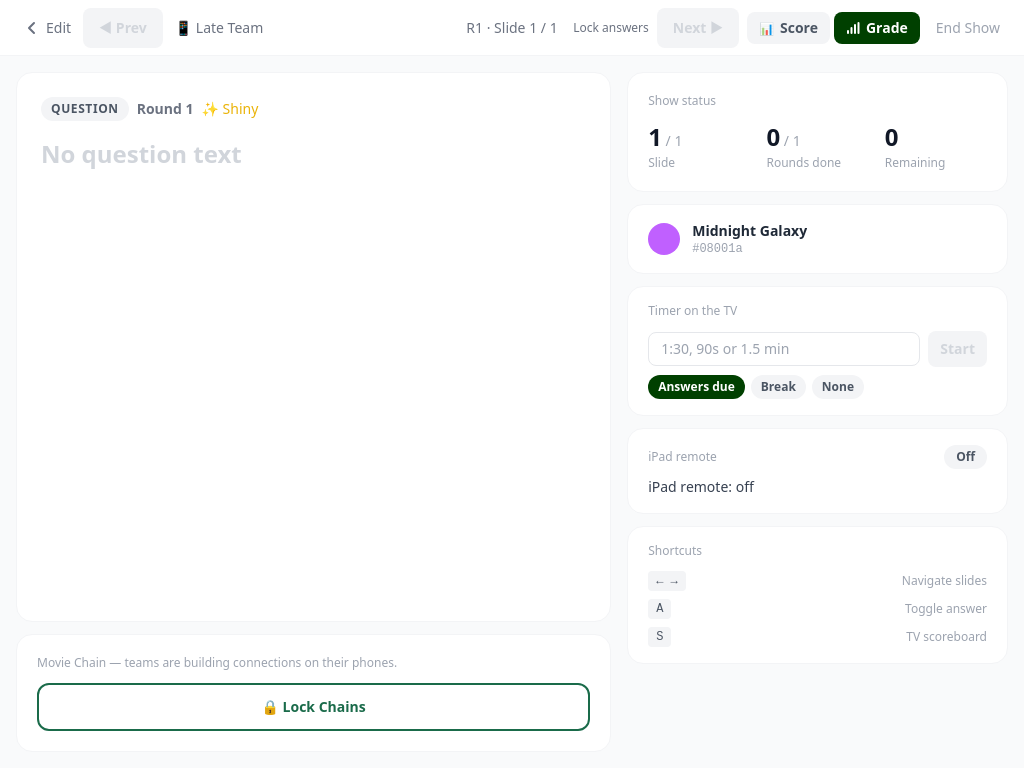
Test: Movie Chain host flows › an incomplete setup blocks the lock with a useful message
The image size is (1024, 768).
Click the button "🔒 Lock Chains" at (314, 707), box left=37, top=683, right=590, bottom=731
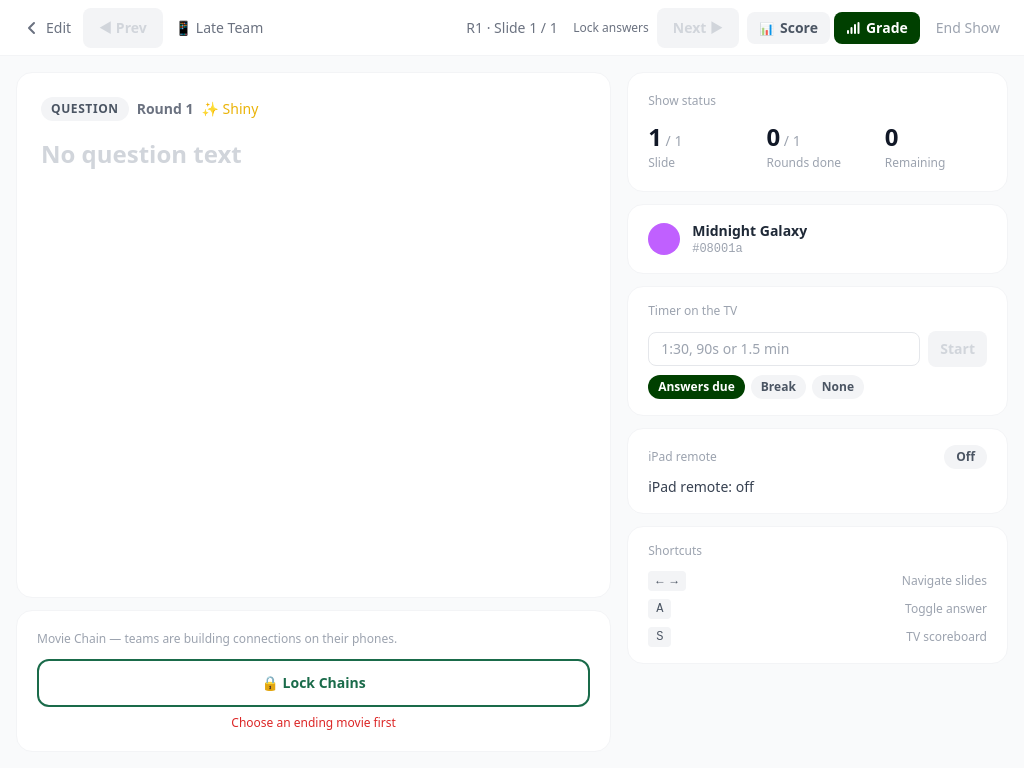
Expected: the text "Choose an ending movie first" is shown, left=231, top=714, right=396, bottom=731
